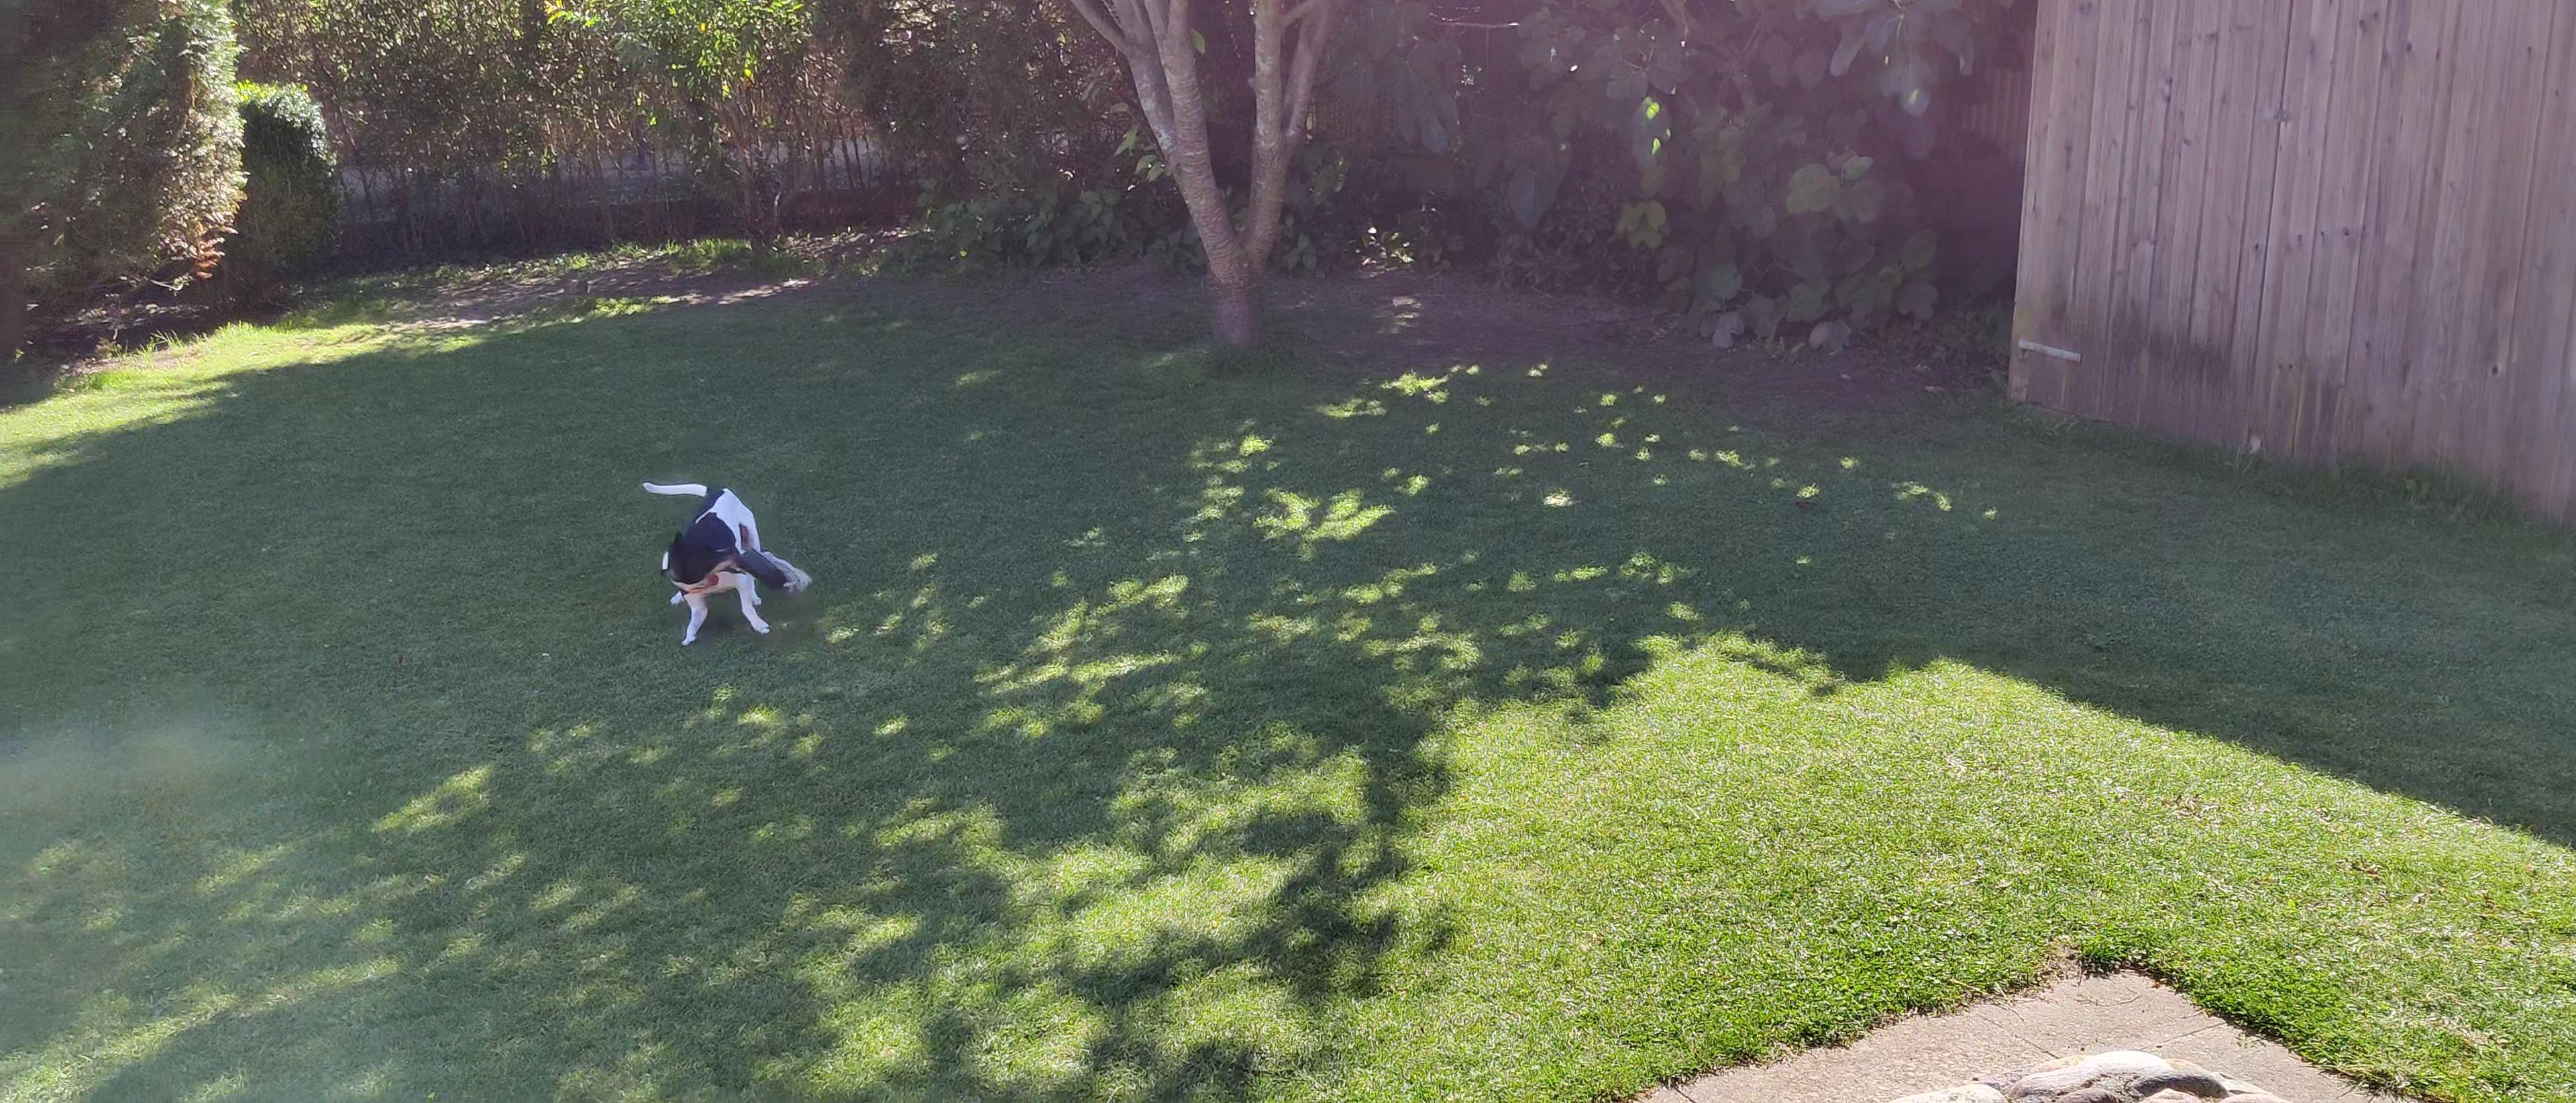Dog: (626, 464, 784, 648)
